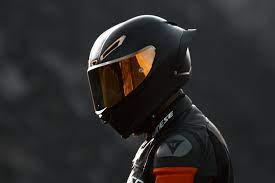helmet: (82, 10, 193, 132)
